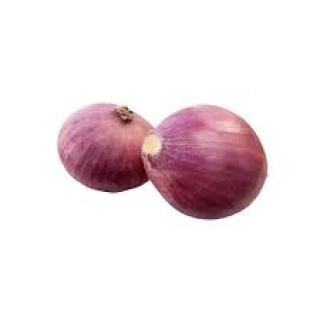Bawang Merah: (139, 103, 271, 223)
